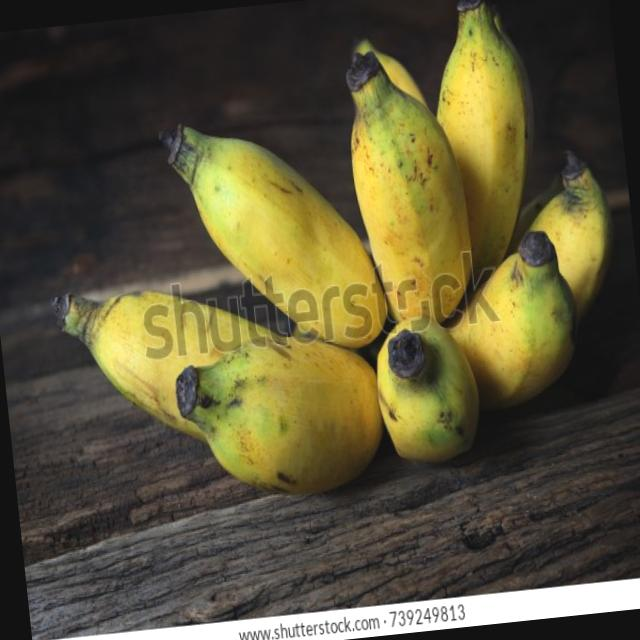banana: (17, 0, 640, 527)
